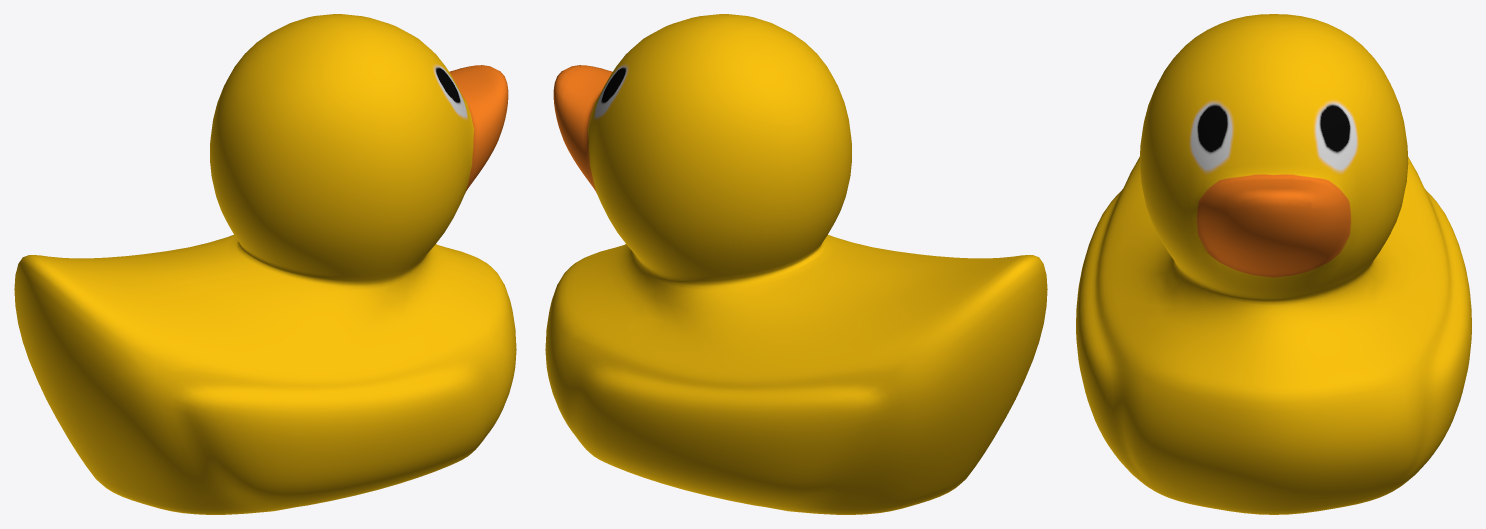
Rendered from duck.obj.
3 views of the same model, side by side, from view 1: azimuth 30°, elevation 25°; view 2: azimuth 150°, elevation 25°; view 3: azimuth 270°, elevation 25° (orthographic). The views are drawn at different scales.
Parts seen in each view (by area): view 1: RubberDuck_LOD0; view 2: RubberDuck_LOD0; view 3: RubberDuck_LOD0.
Boxes of the visible parts, x1=… form: RubberDuck_LOD0: x1=14, y1=14, x2=516, y2=514; RubberDuck_LOD0: x1=545, y1=14, x2=1047, y2=514; RubberDuck_LOD0: x1=1076, y1=14, x2=1471, y2=514.
Bounding box in the file's own units: 1.34 × 1.12 × 0.9224.
Materials: 1 (1 with a texture image).
